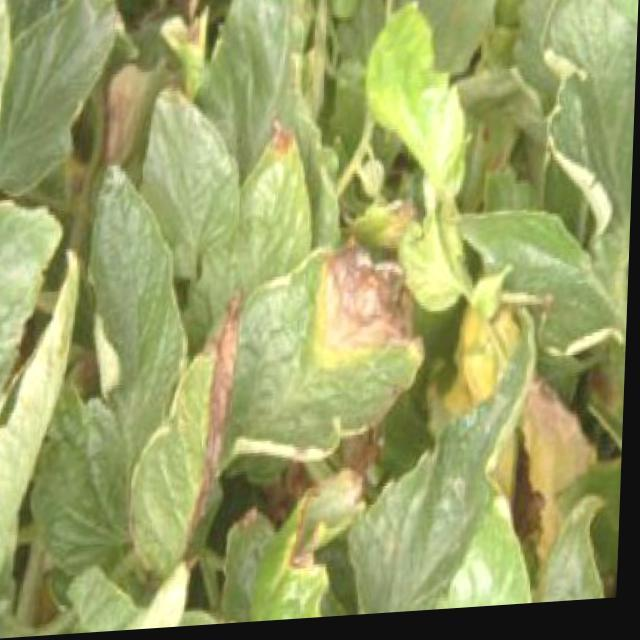Tomato mold leaf: (134, 217, 438, 572), (39, 165, 204, 590), (453, 193, 632, 376), (0, 0, 140, 204)
